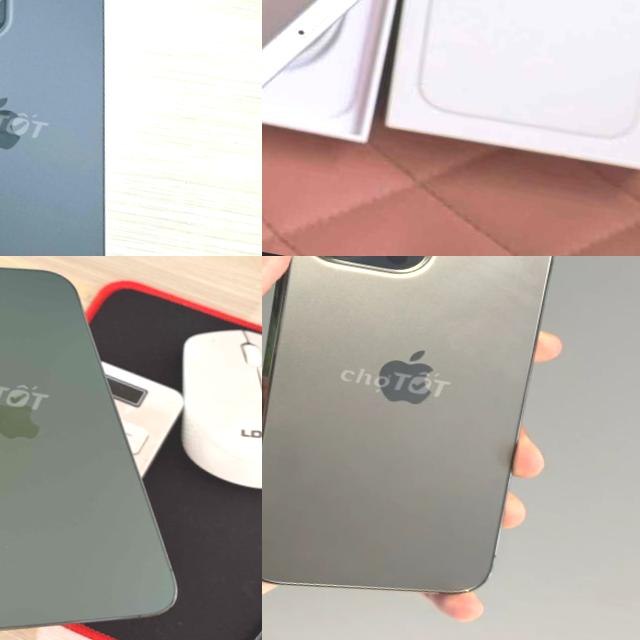gen_12_13: (262, 256, 572, 629), (0, 256, 241, 640)
gen_15: (0, 0, 192, 256)
gen_16: (262, 0, 638, 241)
